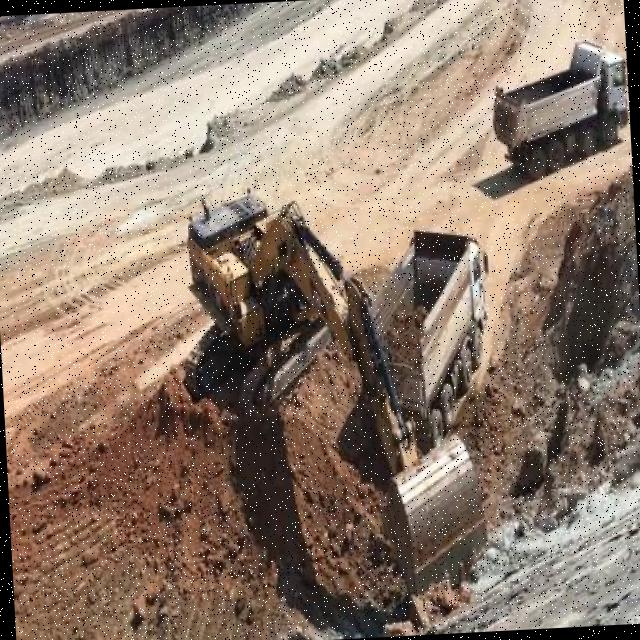Dump Truck: (350, 216, 500, 452), (485, 36, 632, 175)
Excavator: (181, 178, 507, 632)
